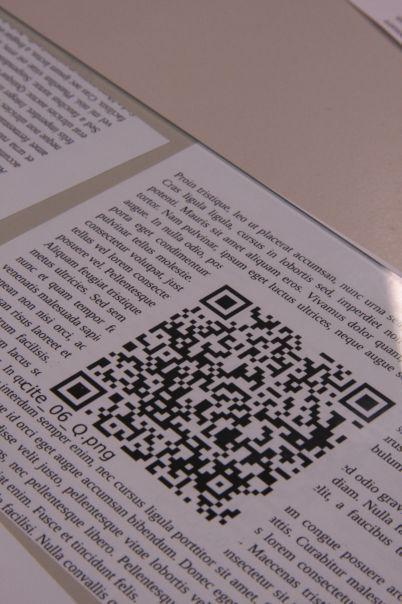Finder pattern: (335, 380, 396, 428), (50, 369, 108, 410), (198, 283, 256, 323)
